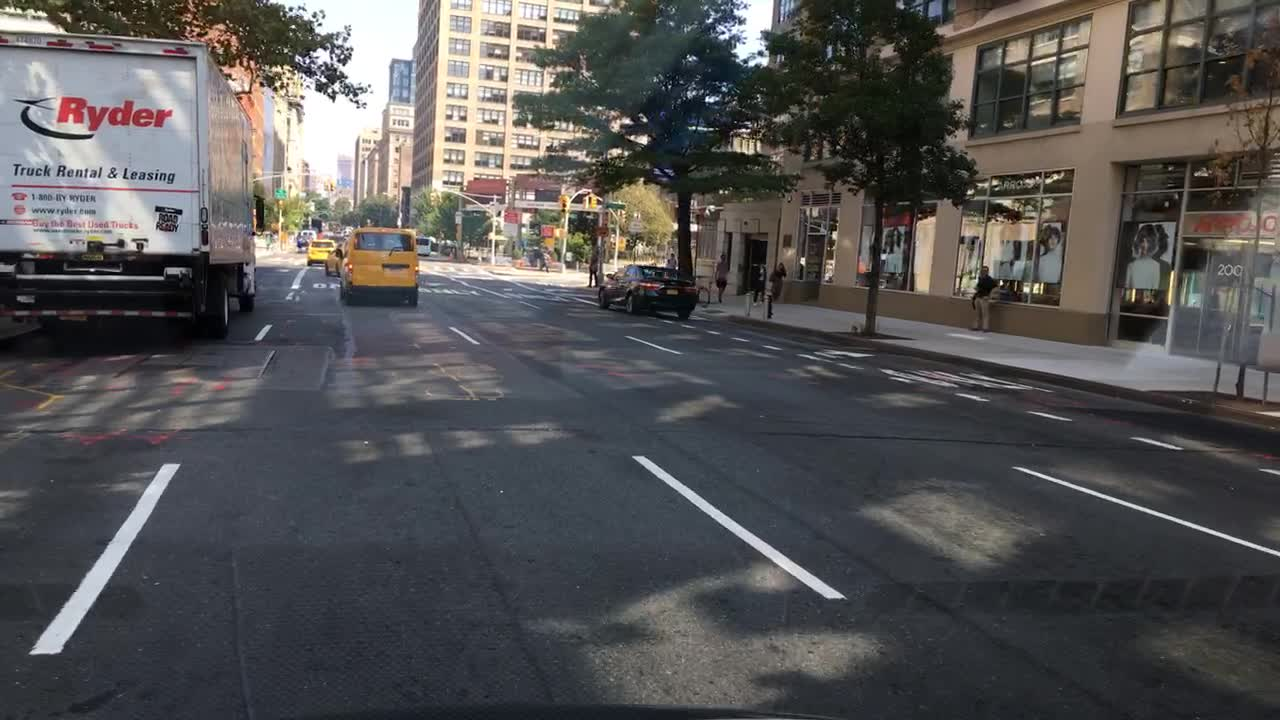car: (338, 224, 419, 305), (596, 261, 701, 322), (319, 244, 352, 276), (305, 237, 335, 265), (295, 229, 313, 250), (416, 235, 432, 257)
person: (968, 264, 1001, 332), (712, 251, 729, 301), (770, 258, 788, 303), (752, 259, 768, 306), (586, 251, 601, 289)
traffic light: (589, 193, 600, 209), (560, 196, 568, 212)
traffic sign: (274, 187, 287, 200)
truck: (0, 27, 259, 336)
